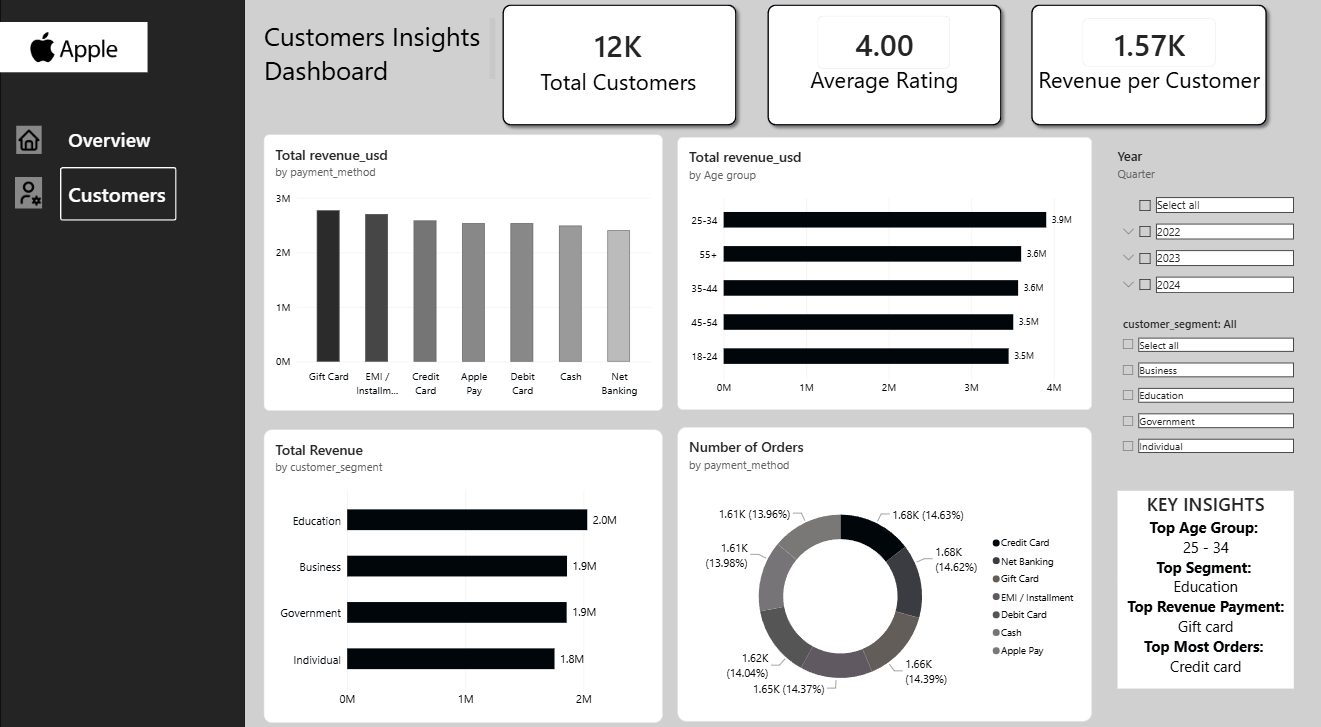

The dashboard page shown, as its layout file describes it:
{"tool":"powerbi","page":{"name":"Customers","canvas":[1920,1080],"ordinal":1},"visuals":[{"type":"shape","box":[1484.4,15.6,359.1,193.2],"z":0,"group":"g3"},{"type":"shape","box":[0,15.9,354.5,1063.6],"z":0},{"type":"shape","box":[717.8,15.6,356.8,193.2],"z":1000,"group":"g1"},{"type":"cardVisual","fields":{"Data":["apple_global_sales_dataset.Revenue per Customer"]},"box":[1567.1,45.1,193.7,70.5],"z":1000,"group":"g3"},{"type":"image","box":[0,50,213.6,72.7],"z":1000},{"type":"shape","box":[1102.2,15.6,356.8,193.2],"z":2000,"group":"g2"},{"type":"textbox","box":[1495.2,112,337.6,47.6],"z":2000,"group":"g3"},{"type":"actionButton","box":[86.6,188.3,151.5,67.1],"z":2000},{"type":"cardVisual","fields":{"Data":["apple_global_sales_dataset.Total Orders"]},"box":[776.5,40.6,237.1,81.8],"z":3000,"group":"g1"},{"type":"image","box":[23.8,201.3,36.8,41.1],"z":3000},{"type":"textbox","box":[767.1,113.3,255.9,63.6],"z":4000,"group":"g1"},{"type":"actionButton","box":[86.6,259.7,168.8,77.9],"z":6000},{"type":"image","box":[21.6,274.8,39,45.4],"z":7000},{"type":"group","id":"g1","title":"Group 1","box":[717.8,15.6,355.6,193.3],"z":8000},{"type":"group","id":"g2","title":"Group 2","box":[1102.2,15.6,355.6,193.3],"z":9000},{"type":"group","id":"g3","title":"Group 3","box":[1484.4,15.6,360,193.3],"z":10000},{"type":"cardVisual","fields":{"Data":["apple_global_sales_dataset.Average Rating"]},"box":[1184.4,40.6,192.5,77.3],"z":13000,"group":"g2"},{"type":"slicer","title":"Year","fields":{"Values":["apple_global_sales_dataset.sale_date.Variation.Date Hierarchy.Year","apple_global_sales_dataset.sale_date.Variation.Date Hierarchy.Quarter","apple_global_sales_dataset.sale_date.Variation.Date Hierarchy.Month","apple_global_sales_dataset.sale_date.Variation.Date Hierarchy.Day"]},"box":[1617.8,231.1,255.6,226.7],"z":13000},{"type":"clusteredColumnChart","title":"Total revenue_usd","fields":{"Category":["apple_global_sales_dataset.payment_method"],"Y":["Sum(apple_global_sales_dataset.revenue_usd)"]},"box":[382.2,213.3,577.8,400],"z":14000},{"type":"textbox","box":[1125.4,112,309.5,58.4],"z":14001,"group":"g2"},{"type":"donutChart","title":"Number of Orders","fields":{"Category":["apple_global_sales_dataset.payment_method"],"Y":["CountNonNull(apple_global_sales_dataset.sale_id)"]},"box":[980,637.8,600,426.7],"z":15000},{"type":"clusteredBarChart","fields":{"Category":["apple_global_sales_dataset.customer_segment"],"Y":["apple_global_sales_dataset.Total Revenue"]},"box":[382.2,640,577.8,424.4],"z":16000},{"type":"barChart","title":"Total revenue_usd","fields":{"Category":["apple_global_sales_dataset.Age group"],"Y":["Sum(apple_global_sales_dataset.revenue_usd)"]},"box":[980,217.8,600,395.6],"z":17001},{"type":"textbox","box":[382.2,44.4,335.6,93.3],"z":17002},{"type":"slicer","fields":{"Values":["apple_global_sales_dataset.customer_segment"]},"box":[1617.8,475.6,255.6,222.2],"z":17003},{"type":"textbox","title":"KEY INSIGHTS","box":[1617.8,728.9,255.6,286.7],"z":17004}]}

Visuals, with their boxes in screenshot pixels (x1, y1, x2, y2), scaled from the page's 1920x1080 canvas onto the 1321x727 screenshot:
shape: <region>1021, 11, 1268, 141</region>
shape: <region>0, 11, 244, 726</region>
shape: <region>494, 11, 739, 141</region>
cardVisual - apple_global_sales_dataset.Revenue per Customer: <region>1078, 30, 1211, 78</region>
image: <region>0, 34, 147, 83</region>
shape: <region>758, 11, 1004, 141</region>
textbox: <region>1029, 75, 1261, 107</region>
actionButton: <region>60, 127, 164, 172</region>
cardVisual - apple_global_sales_dataset.Total Orders: <region>534, 27, 697, 82</region>
image: <region>16, 136, 42, 163</region>
textbox: <region>528, 76, 704, 119</region>
actionButton: <region>60, 175, 176, 227</region>
image: <region>15, 185, 42, 216</region>
"Group 1" group: <region>494, 11, 739, 141</region>
"Group 2" group: <region>758, 11, 1003, 141</region>
"Group 3" group: <region>1021, 11, 1269, 141</region>
cardVisual - apple_global_sales_dataset.Average Rating: <region>815, 27, 947, 79</region>
"Year" slicer: <region>1113, 156, 1289, 308</region>
"Total revenue_usd" clusteredColumnChart: <region>263, 144, 660, 413</region>
textbox: <region>774, 75, 987, 115</region>
"Number of Orders" donutChart: <region>674, 429, 1087, 717</region>
clusteredBarChart - apple_global_sales_dataset.customer_segment x apple_global_sales_dataset.Total Revenue: <region>263, 431, 660, 716</region>
"Total revenue_usd" barChart: <region>674, 147, 1087, 413</region>
textbox: <region>263, 30, 494, 93</region>
slicer - apple_global_sales_dataset.customer_segment: <region>1113, 320, 1289, 470</region>
"KEY INSIGHTS" textbox: <region>1113, 491, 1289, 684</region>
